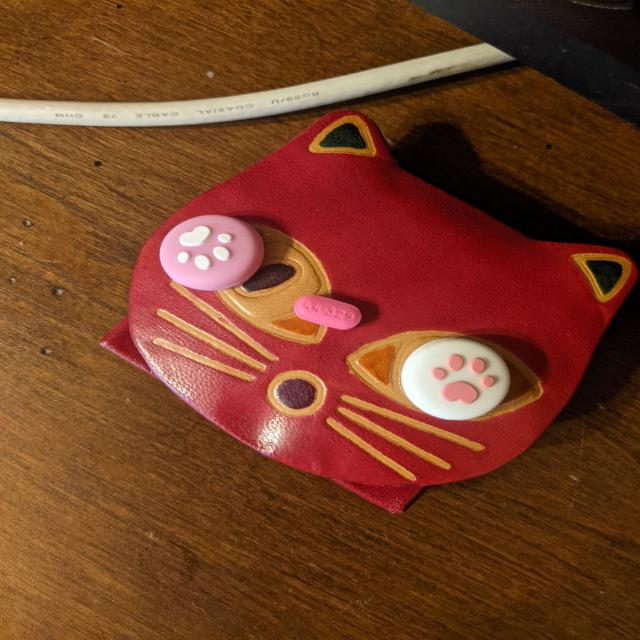non-organic waste: (293, 294, 363, 331)
